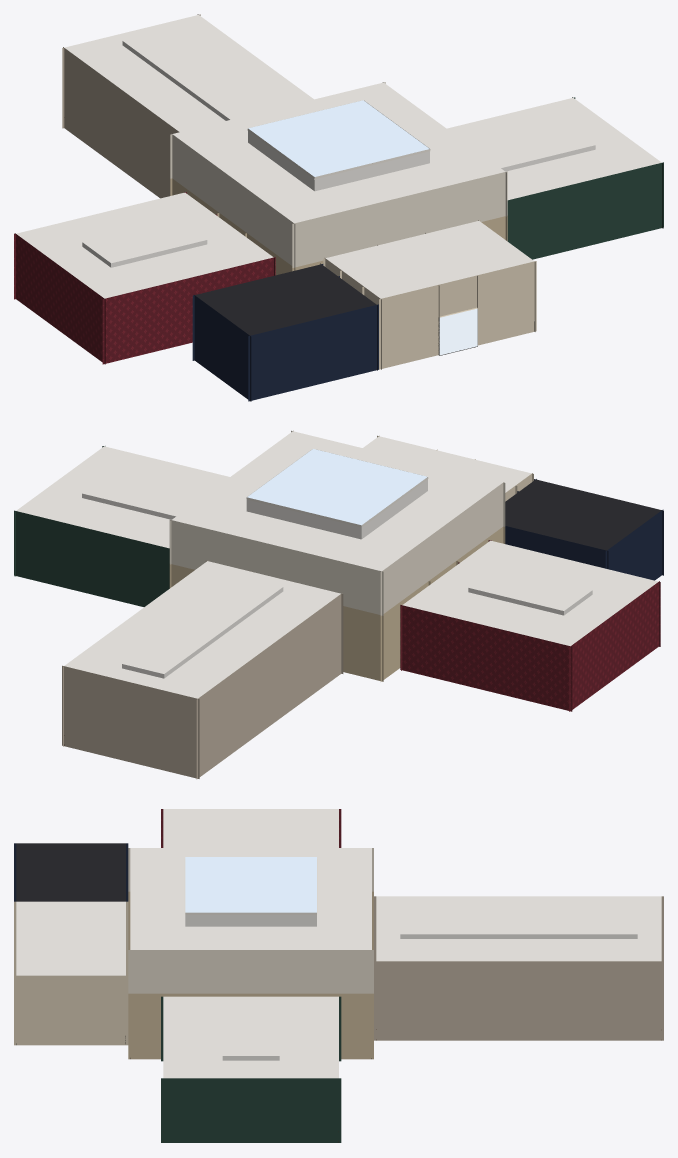
The model's file is gallery.glb.
3 renders of one model, top to bottom at view 1: azimuth 30°, elevation 25°; view 2: azimuth 150°, elevation 25°; view 3: azimuth 270°, elevation 25°, orthographic.
Visible parts, largest first — view 1: Gallery, emit_glow_sky, emit_glow_daylight, Details; view 2: Gallery, emit_glow_sky, Details; view 3: Gallery, emit_glow_sky.
Boxes of the visible parts, x1,y1,x2,y2 form: Gallery: (14, 14, 663, 401); emit_glow_sky: (248, 100, 429, 176); emit_glow_daylight: (439, 308, 477, 355); Details: (64, 100, 661, 369); Gallery: (14, 430, 663, 779); emit_glow_sky: (247, 449, 427, 525); Details: (16, 449, 428, 745); Gallery: (14, 809, 663, 1142); emit_glow_sky: (185, 857, 316, 912).
Bounding box in the file's own units: 58.4 × 12.42 × 59.2.
Materials: 36 (6 with a texture image).
